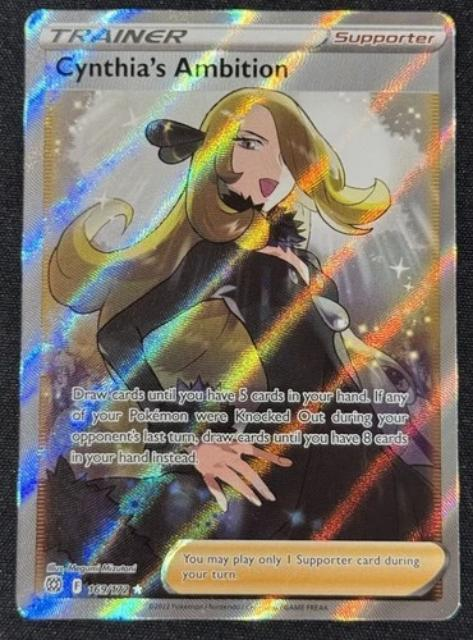Card: (12, 5, 467, 625)
Name: (50, 50, 296, 85)
